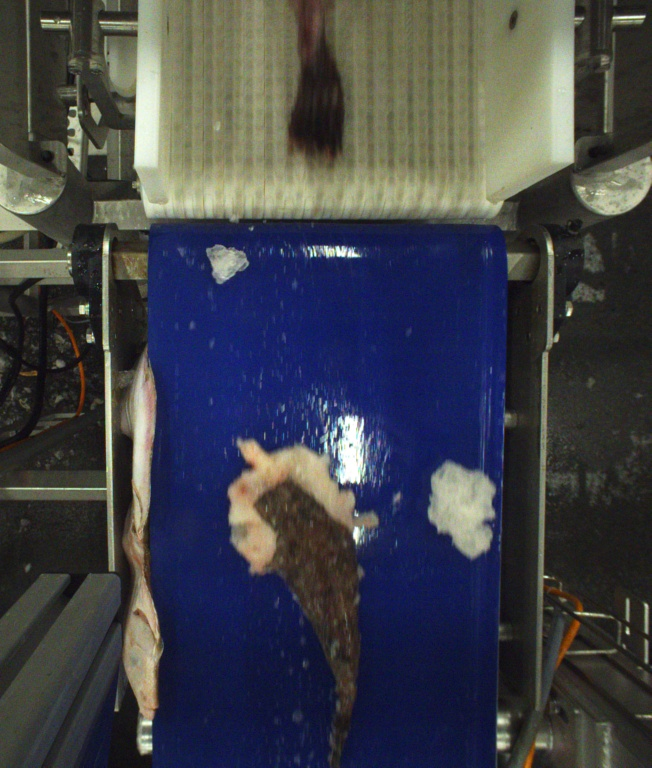ANF: (287, 0, 348, 166)
